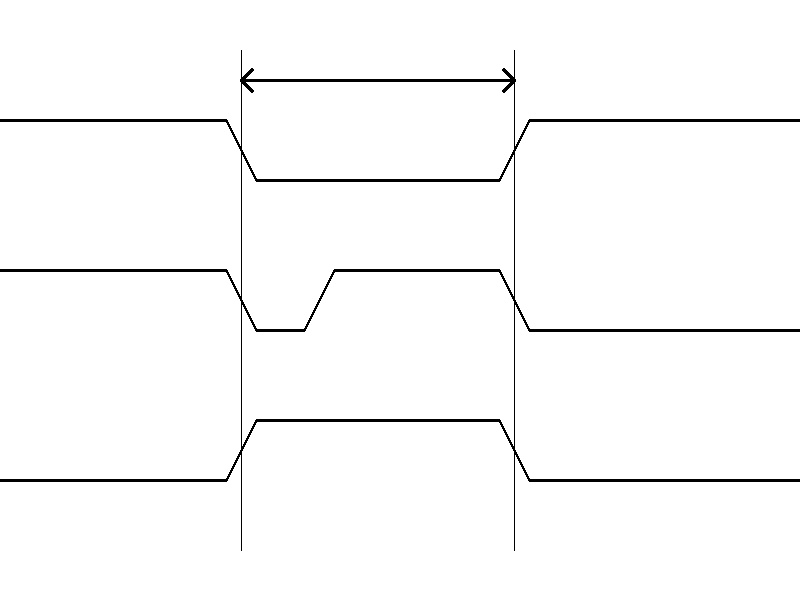double_arrow: (241, 65, 514, 95)
